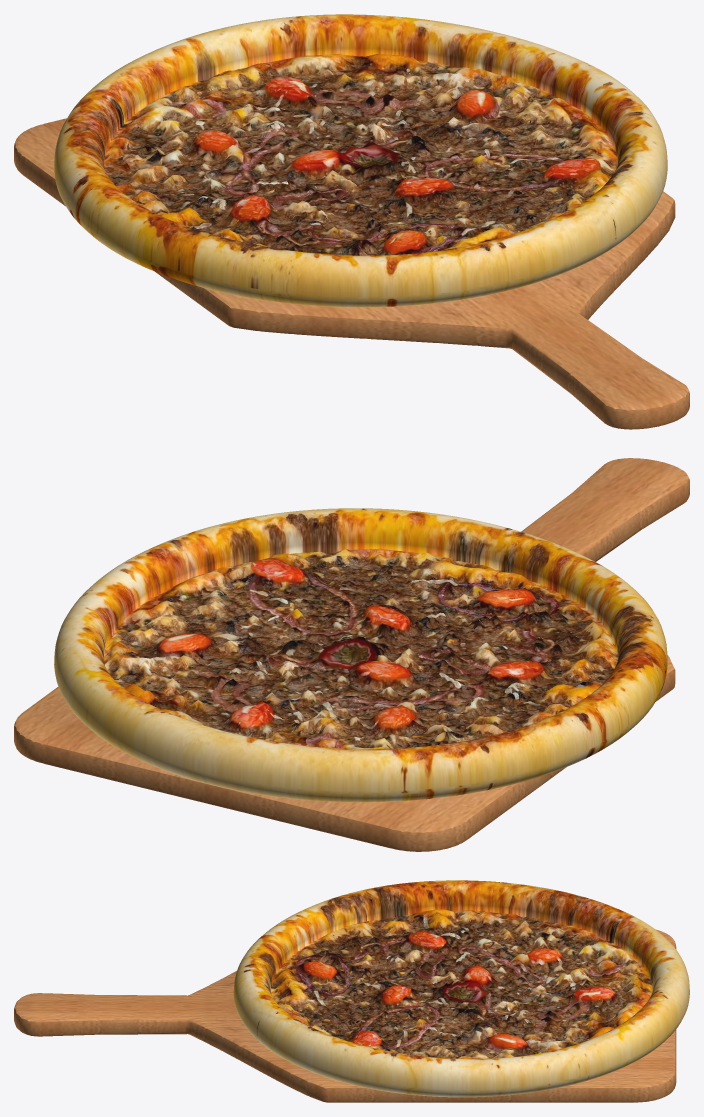
Rendered from pizza-burgerys.glb.
3 views of the same model, one above another, from view 1: azimuth 30°, elevation 25°; view 2: azimuth 150°, elevation 25°; view 3: azimuth 270°, elevation 25° (orthographic). The views are drawn at different scales.
Visible parts, largest first — view 1: pizza-burgerys, peel.005; view 2: pizza-burgerys, peel.005; view 3: pizza-burgerys, peel.005.
Boxes of the visible parts, <box> form: pizza-burgerys: <box>54,14,667,307</box>; peel.005: <box>14,118,689,429</box>; pizza-burgerys: <box>54,508,667,802</box>; peel.005: <box>14,458,689,851</box>; pizza-burgerys: <box>233,880,689,1097</box>; peel.005: <box>14,929,676,1102</box>.
Size of the model in its own units: 0.3 by 0.0395 by 0.4444.
Materials: 3 (2 with a texture image).
